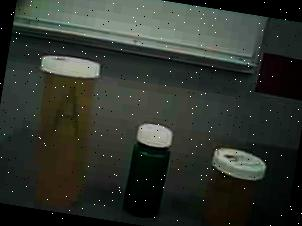Bottle A: (14, 44, 118, 218)
Bottle B: (194, 141, 269, 226)
Bottle C: (118, 118, 179, 226)
